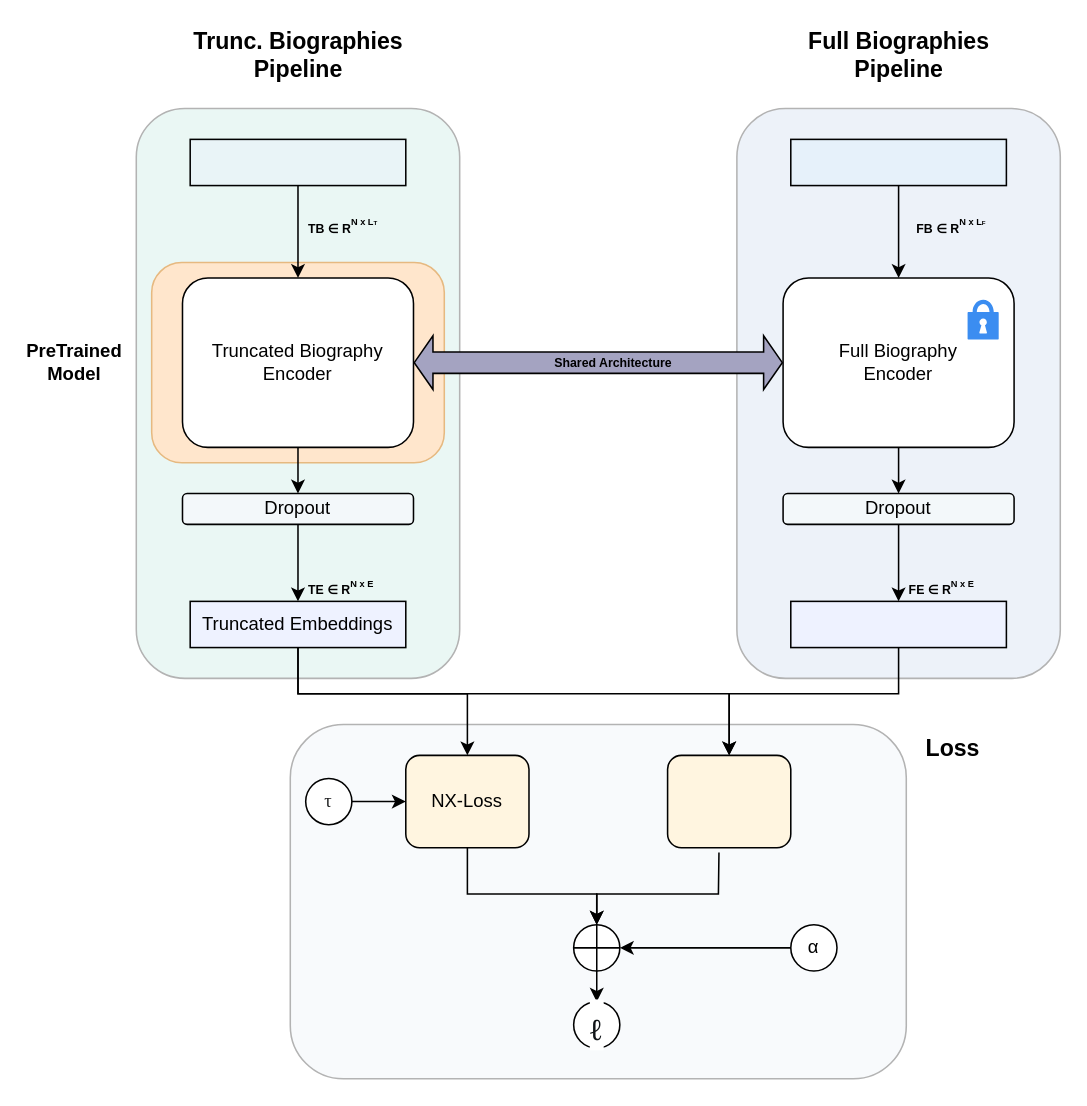
Some shapes in this 1087 by 1106 pixel diagram are drawn without their labels. The shapes that lost their labels are listed below. From the top down, each one's centre as x and y in pixels, then its label:
At point 297,162: "Truncated Biographies".
At point 897,162: "Full Biographies".
At point 897,624: "Full Embeddings".
At point 728,801: "MSE-Loss".
